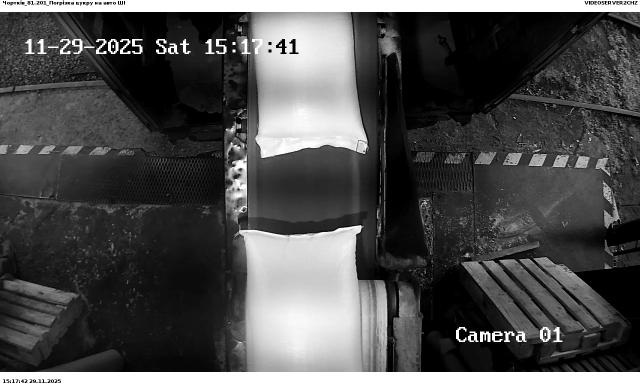bag: (238, 225, 365, 372), (255, 12, 368, 162)
